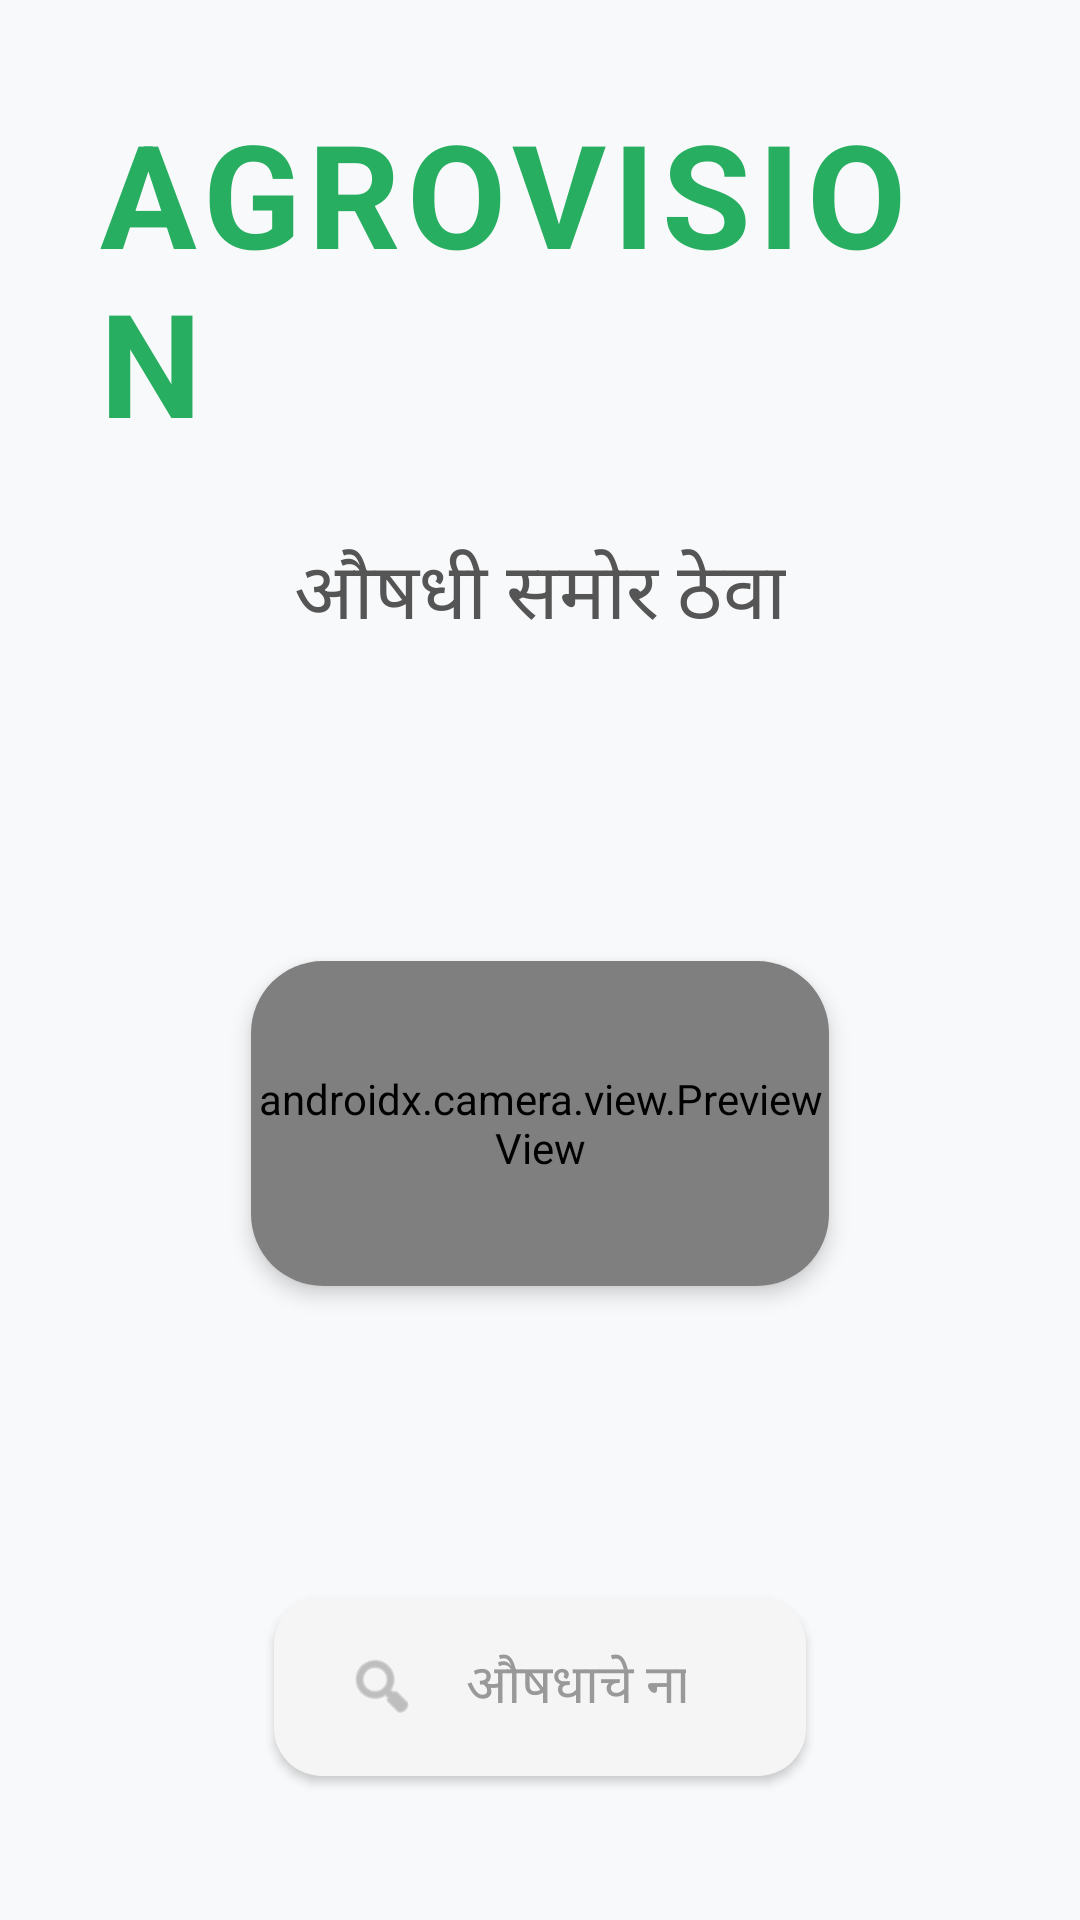

Named icons in this screenshot (1080px x 1920px) and their centers, (x=x, y=y):
Search Icon: (x=382, y=1686)
